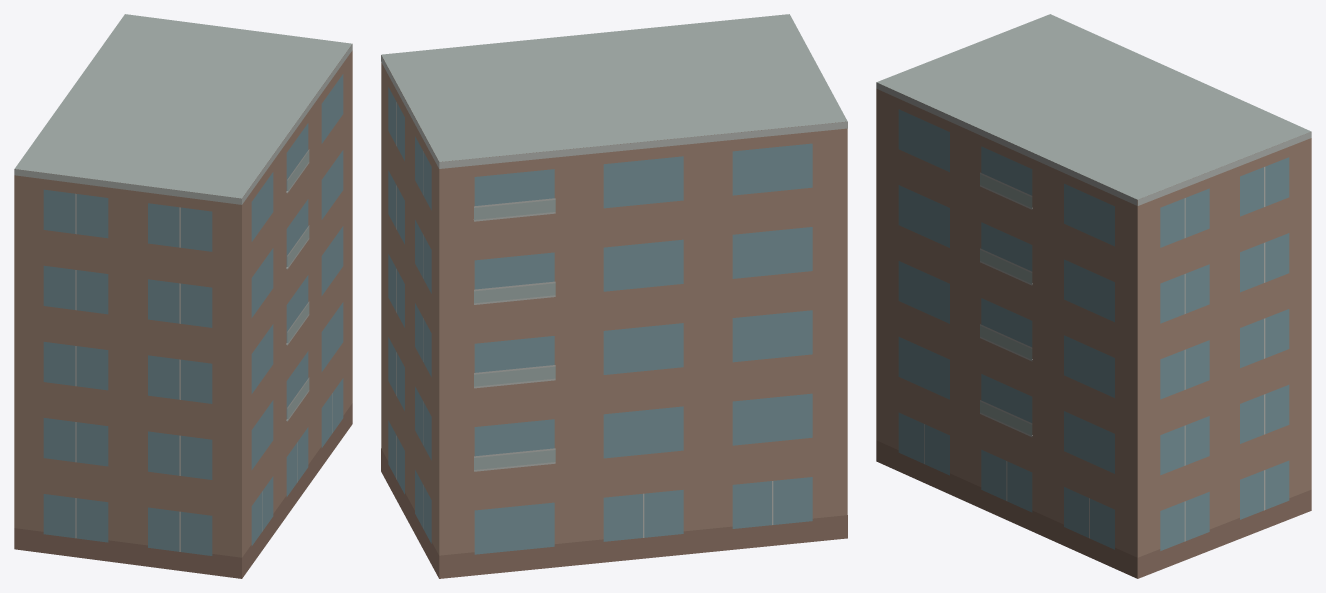
File: survey-upis-33031054.glb
3 views of the same model, side by side, from view 1: azimuth 30°, elevation 25°; view 2: azimuth 150°, elevation 25°; view 3: azimuth 270°, elevation 25° (orthographic). The views are drawn at different scales.
Visible parts, largest first — view 1: survey-upis-33031054.tmp; view 2: survey-upis-33031054.tmp; view 3: survey-upis-33031054.tmp.
Part boxes in pixels (bbox=[...]): survey-upis-33031054.tmp: bbox=[14, 14, 352, 578]; survey-upis-33031054.tmp: bbox=[381, 14, 847, 578]; survey-upis-33031054.tmp: bbox=[876, 14, 1311, 578].
Bounding box in the file's own units: 15.3 × 14.55 × 15.15.
